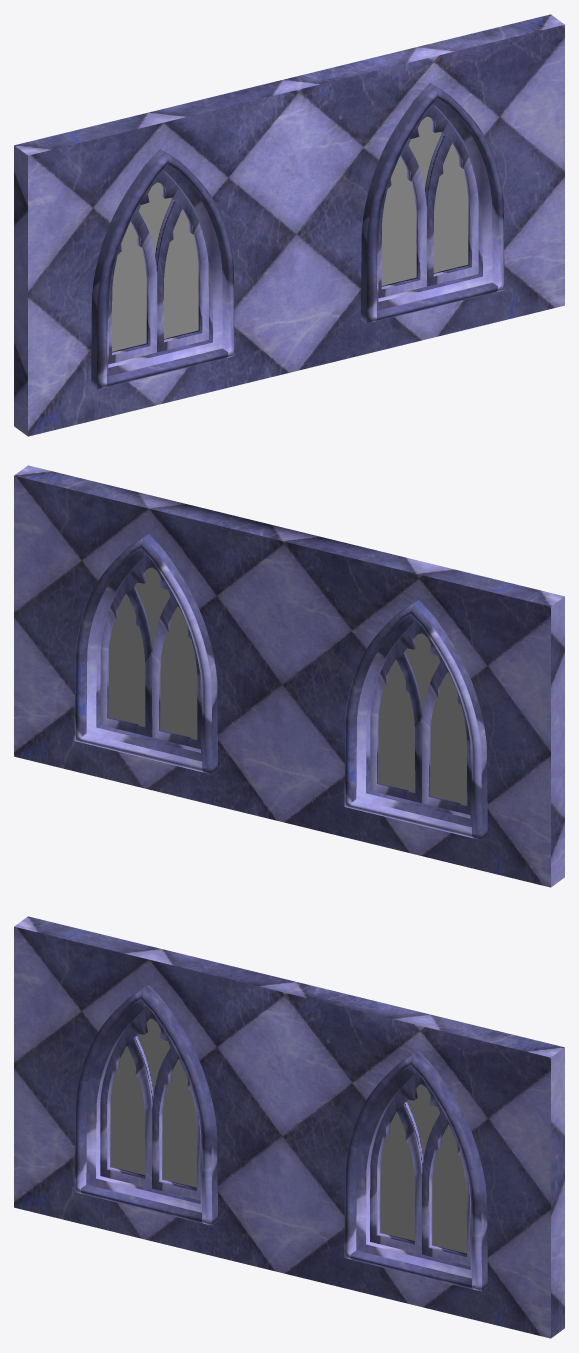
File: hub_windows_half.fbx
3 renders of one model, top to bottom at view 1: azimuth 30°, elevation 25°; view 2: azimuth 150°, elevation 25°; view 3: azimuth 330°, elevation 25°, orthographic.
Visible parts, largest first — view 1: wall_window_half, window_frame_small_, window_frame_small_1, window_glass_1, window_glass_; view 2: wall_window_half, window_frame_small_1, window_frame_small_, window_glass_1, window_glass_; view 3: wall_window_half, window_frame_small_1, window_frame_small_, window_glass_, window_glass_1.
Boxes of the visible parts, x1,y1,x2,y2 form: wall_window_half: [14, 14, 564, 436]; window_frame_small_: [91, 149, 234, 389]; window_frame_small_1: [361, 83, 504, 323]; window_glass_1: [381, 116, 468, 285]; window_glass_: [112, 182, 198, 351]; wall_window_half: [14, 465, 564, 887]; window_frame_small_1: [74, 534, 217, 774]; window_frame_small_: [344, 600, 487, 840]; window_glass_1: [108, 567, 197, 738]; window_glass_: [378, 633, 467, 804]; wall_window_half: [14, 916, 564, 1338]; window_frame_small_1: [344, 1051, 487, 1291]; window_frame_small_: [74, 985, 217, 1225]; window_glass_: [110, 1018, 196, 1187]; window_glass_1: [380, 1084, 466, 1253].
Size of the model in its own units: 22.5 by 11.25 by 1.89.
